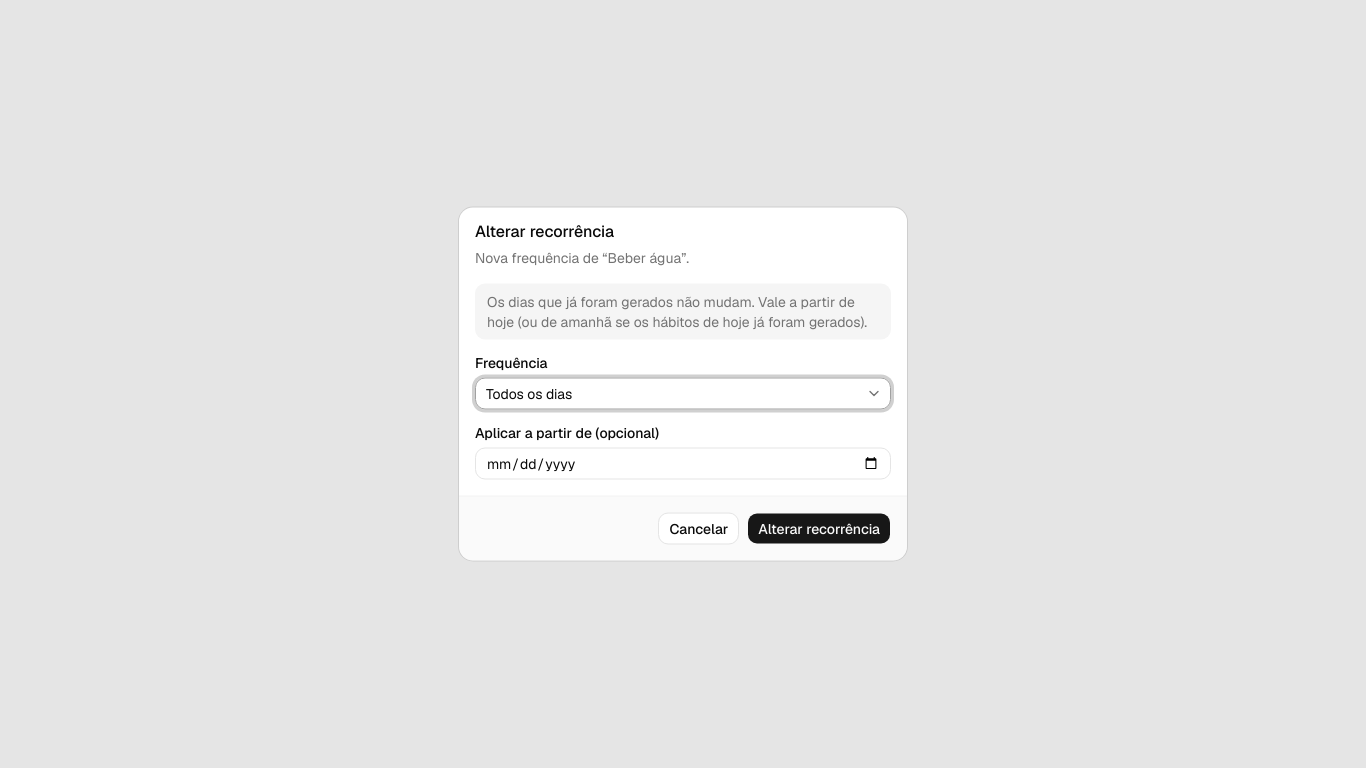
Test: ChangeRecurrenceDialog › shows the API message when the change is refused
Click the button "Alterar recorrência". click: {"x": 819, "y": 528}
box: [747,512,891,544]
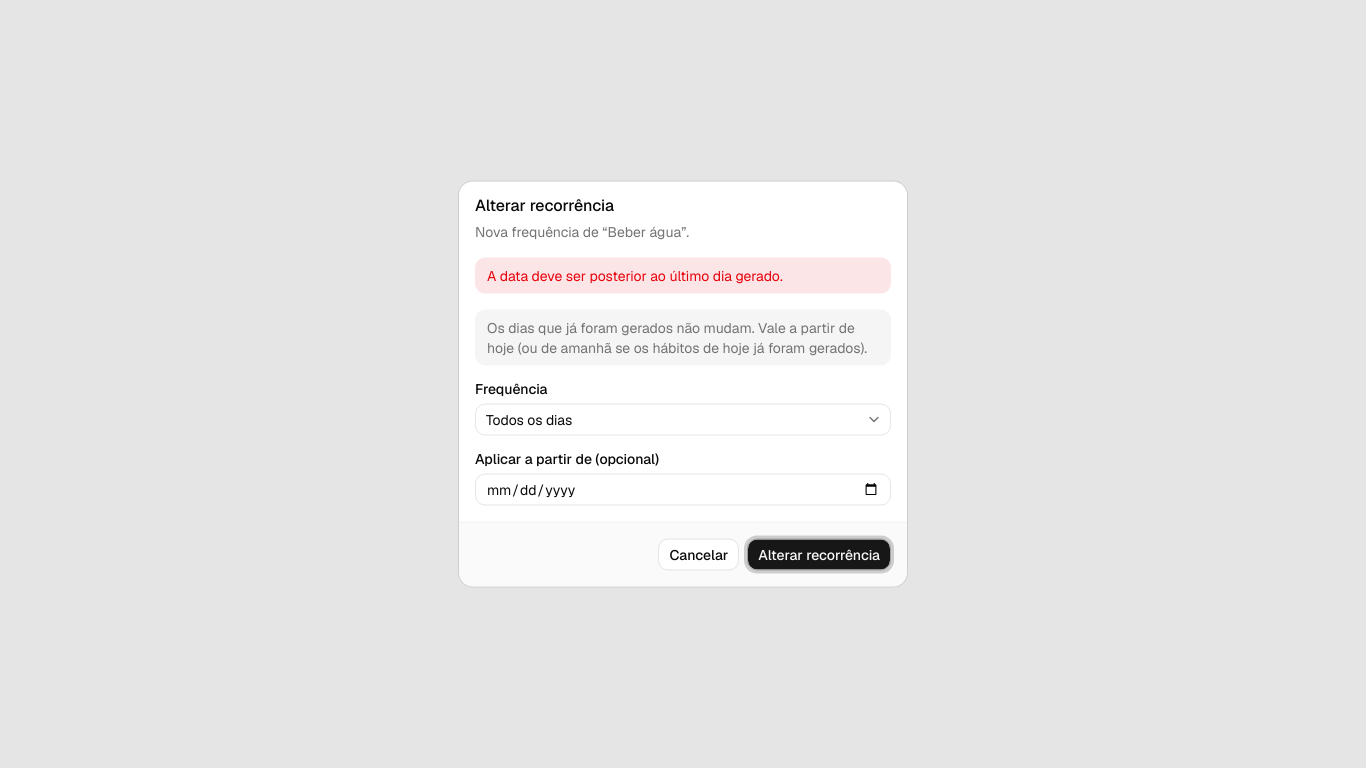
Check: the message reads "A data deve ser posterior ao último dia gerado.", box [487,266,783,284]
